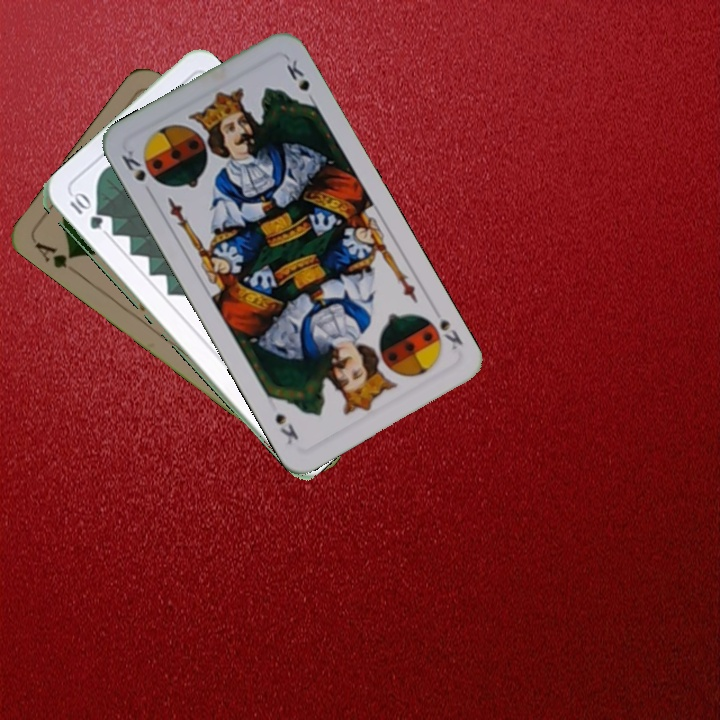G10: (65, 190, 104, 232)
GA: (30, 237, 83, 278)
SK: (117, 146, 156, 199), (436, 315, 466, 352)
